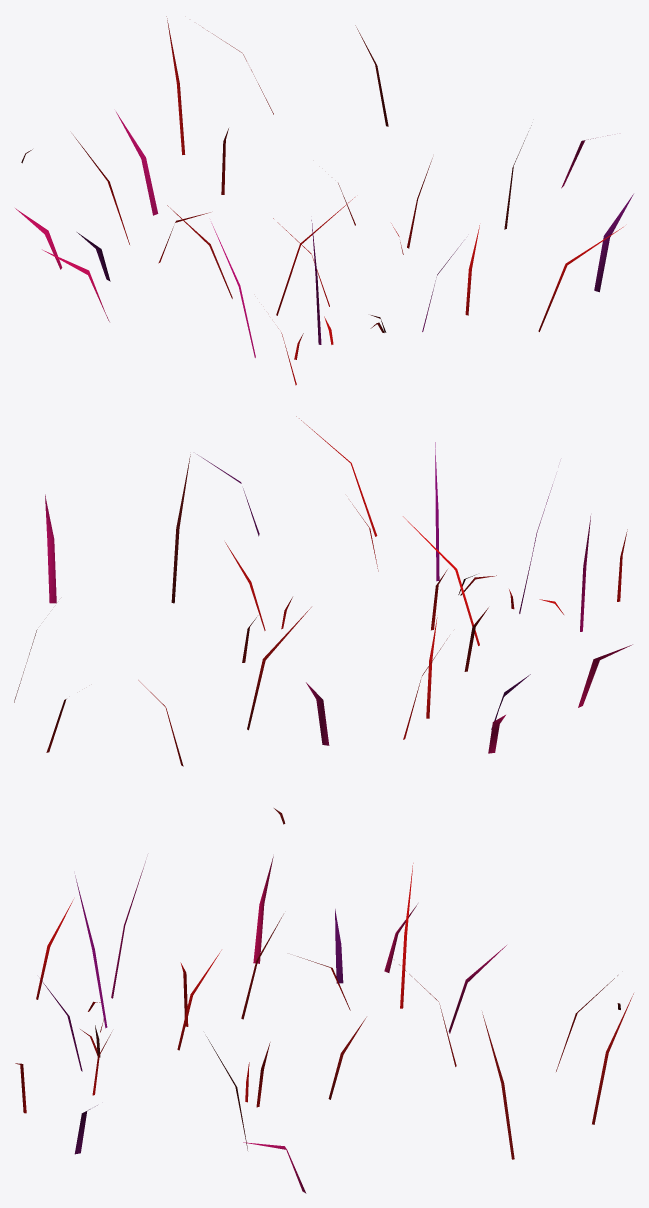
File: GrassTuft3.glb
3 views of the same model, one above another, from view 1: azimuth 30°, elevation 25°; view 2: azimuth 150°, elevation 25°; view 3: azimuth 270°, elevation 25° (orthographic). The views are drawn at different scales.
Parts seen in each view (by area): view 1: GrassTuft3_lod0; view 2: GrassTuft3_lod0; view 3: GrassTuft3_lod0.
Part boxes in pixels (x1=…): GrassTuft3_lod0: x1=15, y1=16, x2=633, y2=385; GrassTuft3_lod0: x1=14, y1=416, x2=632, y2=824; GrassTuft3_lod0: x1=15, y1=856, x2=633, y2=1193.
Size of the model in its own units: 4.1 by 0.9986 by 3.88.
